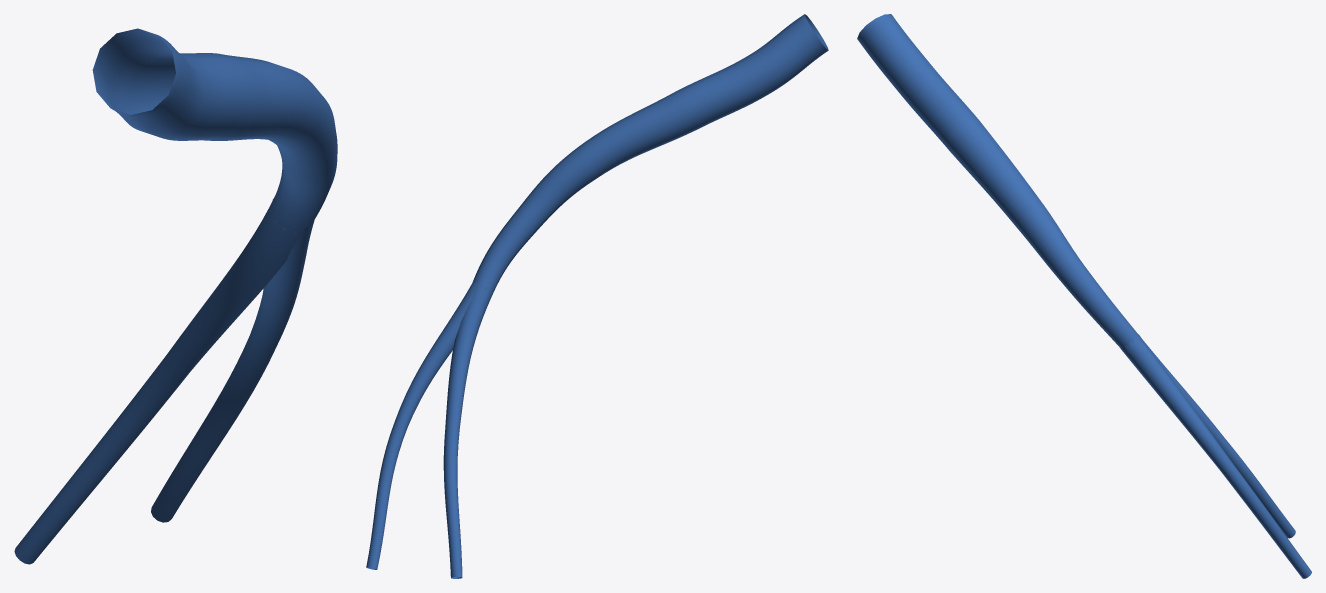
The picture shows the model from 3 angles, left to right: view 1: azimuth 30°, elevation 25°; view 2: azimuth 150°, elevation 25°; view 3: azimuth 270°, elevation 25°; orthographic projection. The views are drawn at different scales.
Parts seen in each view (by area): view 1: 左肺下舌静脉; view 2: 左肺下舌静脉; view 3: 左肺下舌静脉.
Boxes of the visible parts, <box> form: 左肺下舌静脉: <box>14,28,337,564</box>; 左肺下舌静脉: <box>366,14,828,578</box>; 左肺下舌静脉: <box>857,14,1311,578</box>.
Size of the model in its own units: 0.0609 by 0.1011 by 0.0917.
